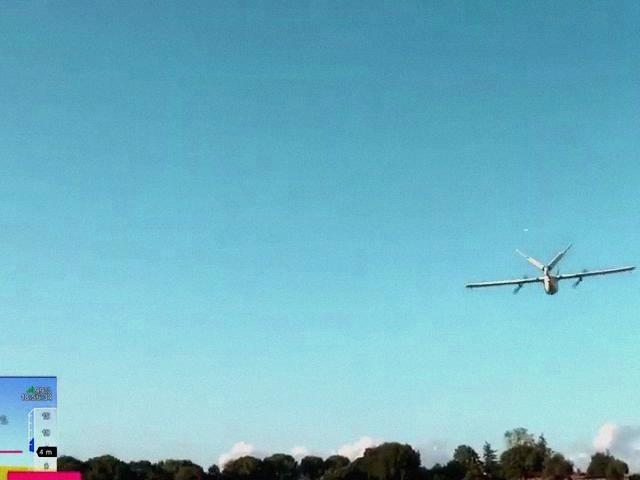Airplane: (463, 240, 640, 301)
